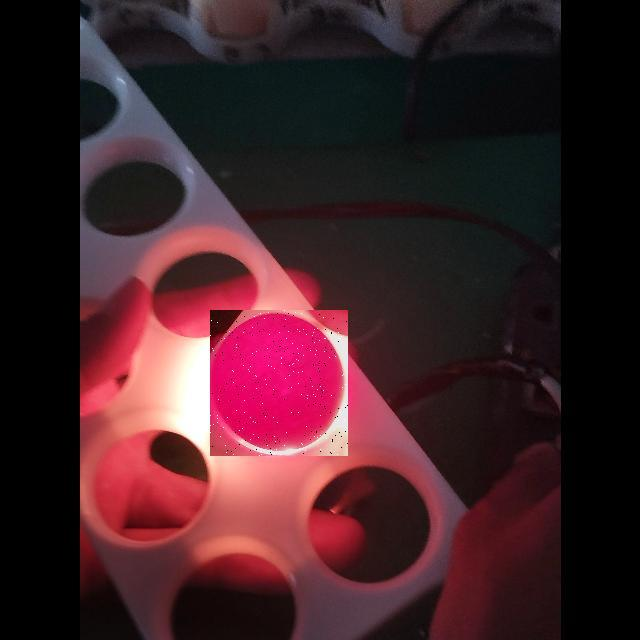Infertile: (210, 310, 348, 456)
